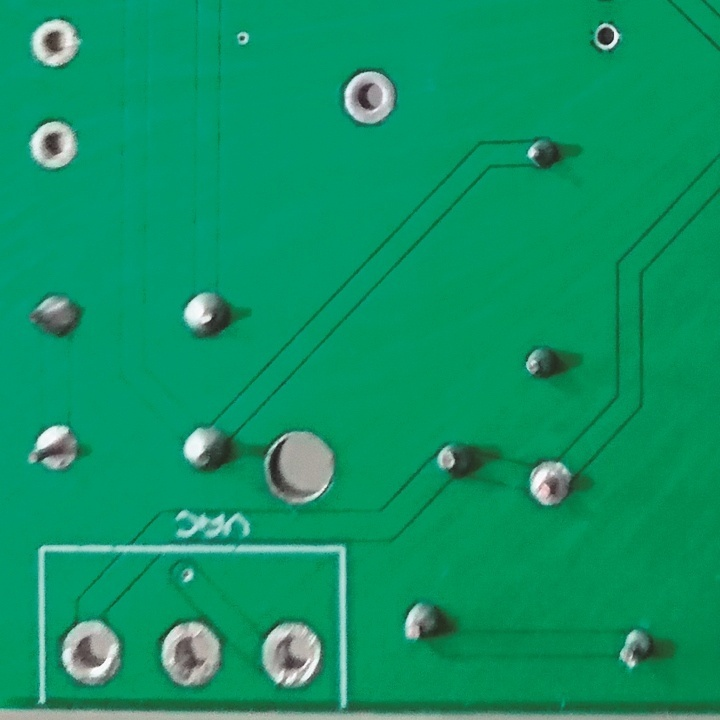F: (254, 618, 324, 692), (57, 612, 123, 687), (158, 616, 226, 687), (338, 69, 403, 130), (21, 418, 79, 475), (26, 115, 81, 175), (29, 19, 87, 71), (526, 458, 579, 514), (591, 23, 624, 52)
